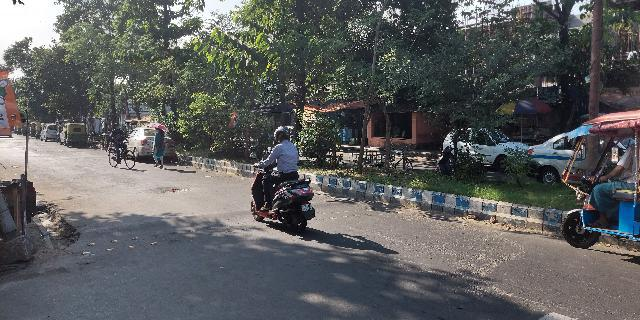Autorickshaw: (58, 118, 93, 149)
Car: (126, 126, 174, 161)
Cycle: (104, 119, 136, 172)
Motorbike: (247, 122, 317, 239)
Rickshaw: (554, 106, 640, 255)
